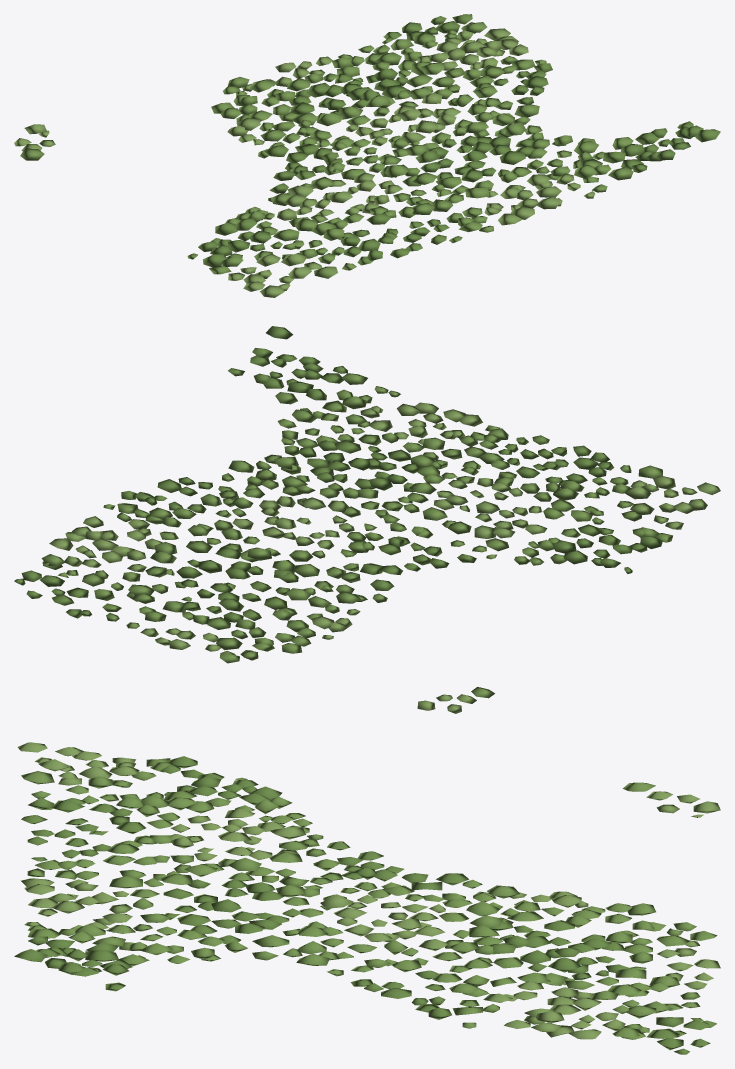
File: canopy-1-1--5.glb
3 views of the same model, one above another, from view 1: azimuth 30°, elevation 25°; view 2: azimuth 150°, elevation 25°; view 3: azimuth 270°, elevation 25° (orthographic). The views are drawn at different scales.
Bounding box in the file's own units: 512 × 102 × 520.
1 material, 1 textured.
